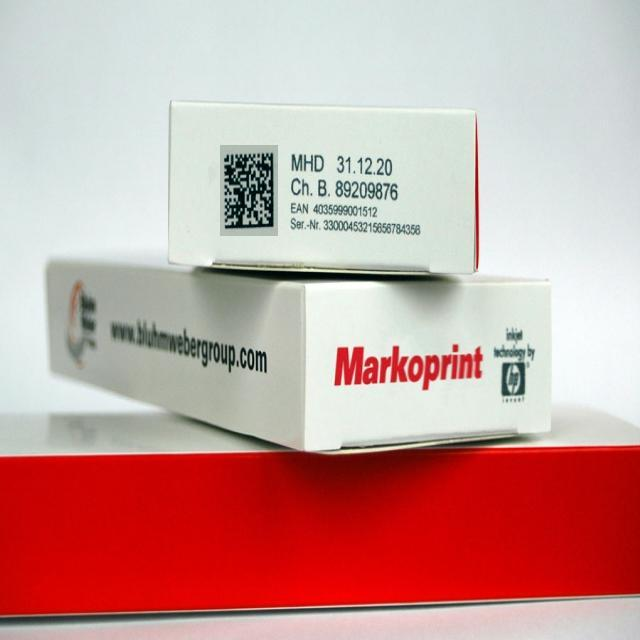Data-Matrix: (220, 145, 278, 236)
